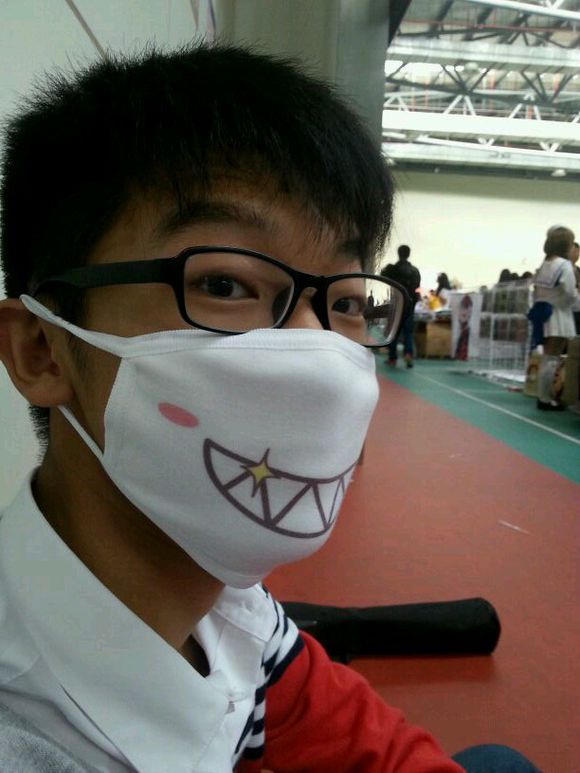face_mask: (94, 146, 381, 580)
